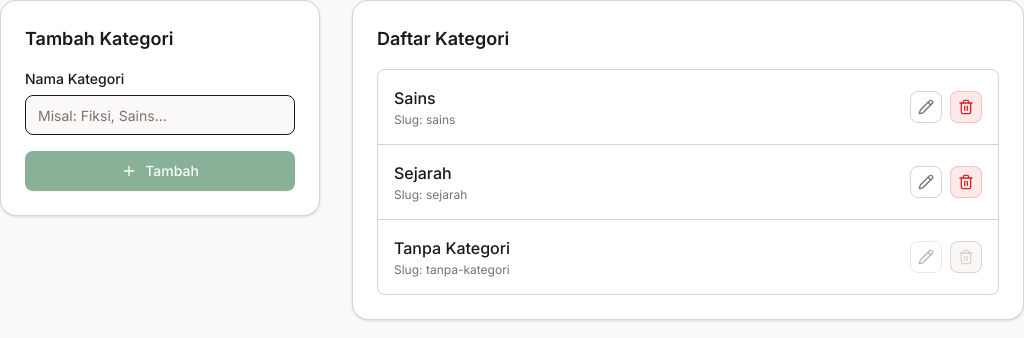
Test case: CategoryManager › switches to edit mode when edit button is clicked
Click the first edit button (Sains)
Click the 1st button named "Edit kategori". click: (926, 107)
box: x1=910 y1=91 x2=942 y2=123
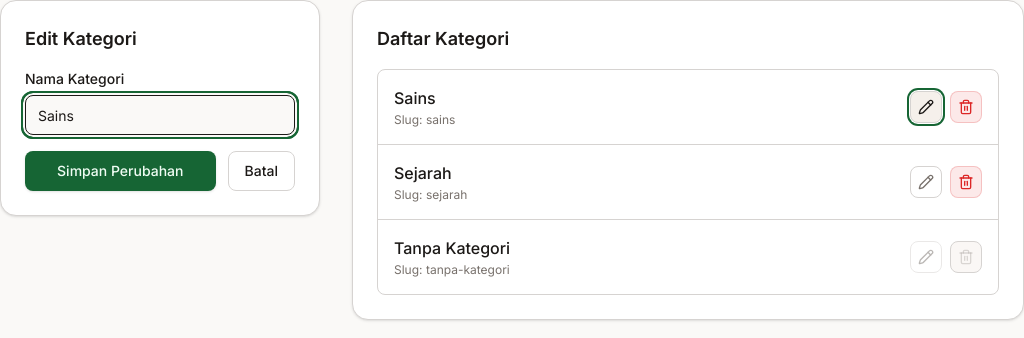
Expected: the heading "Edit Kategori" is shown, x1=25 y1=28 x2=137 y2=49
Expected: the field labelled "Nama Kategori" holds "Sains", x1=25 y1=95 x2=295 y2=135
